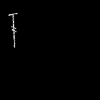treble_crochet: (10, 13, 16, 43)
